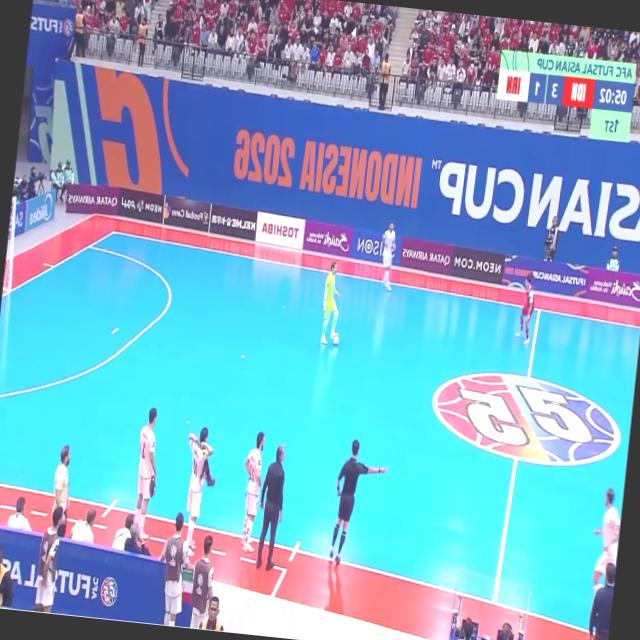keeper: (321, 261, 340, 343)
official: (256, 446, 283, 570)
referee: (329, 440, 385, 564), (588, 563, 615, 639)
